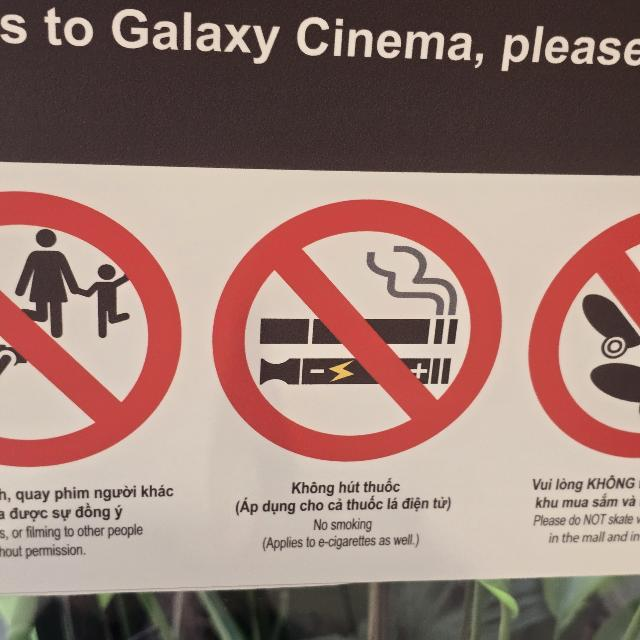cam hut thuoc: (213, 200, 501, 461)
